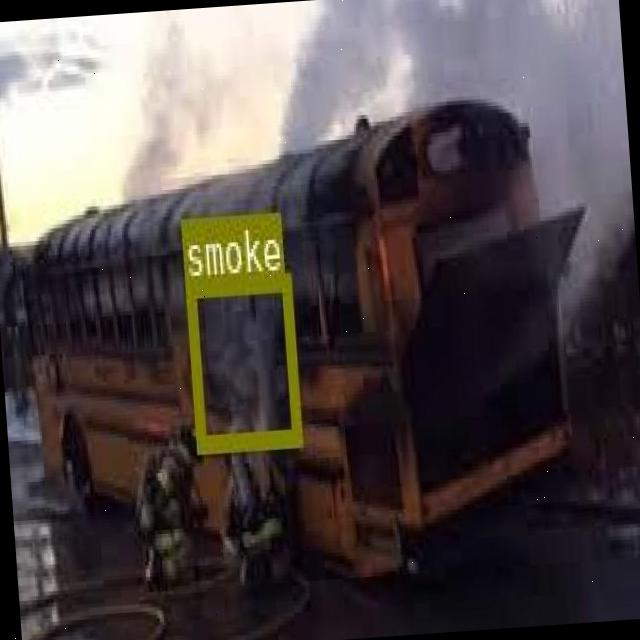smoke: (183, 270, 300, 449)
